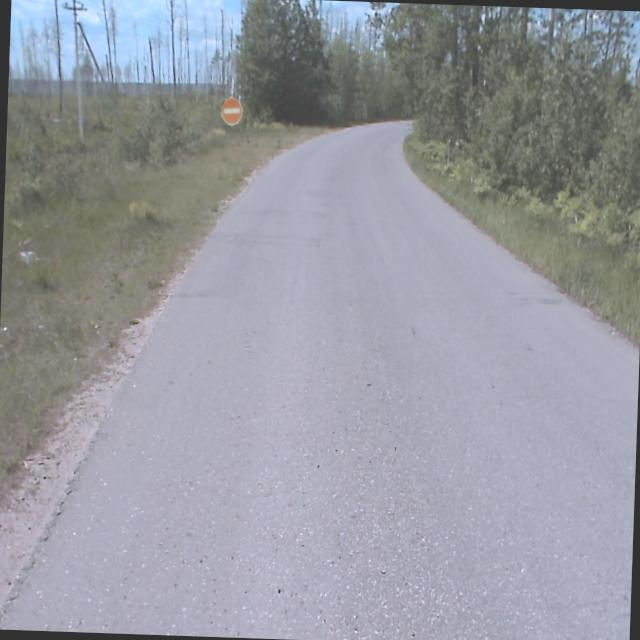road: (0, 121, 639, 640)
